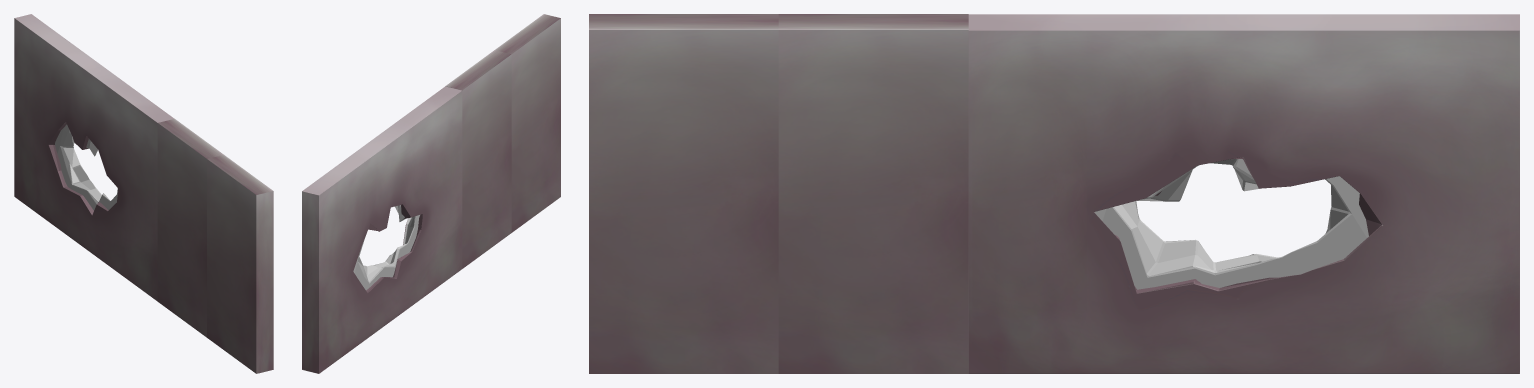
File: WallTile.fbx
3 renders of one model, left to right at view 1: azimuth 30°, elevation 25°; view 2: azimuth 150°, elevation 25°; view 3: azimuth 270°, elevation 25°, orthographic. The views are drawn at different scales.
Visible parts, largest first — view 1: Cube.005, Cube.001, Cube.004, Cube.007; view 2: Cube.005, Cube.004, Cube.001, Cube.007; view 3: Cube.005, Cube.004, Cube.001, Cube.007.
Boxes of the visible parts, x1,y1,x2,y2 form: Cube.005: (14,14,174,301); Cube.001: (207,155,273,373); Cube.004: (157,119,223,337); Cube.007: (55,124,117,210); Cube.005: (302,86,462,373); Cube.004: (445,50,511,268); Cube.001: (495,14,560,232); Cube.007: (353,205,419,290); Cube.005: (968,14,1519,373); Cube.004: (778,14,968,373); Cube.001: (589,14,778,373); Cube.007: (1094,159,1368,289).
Size of the model in its own units: 100 by 1000 by 2453.
